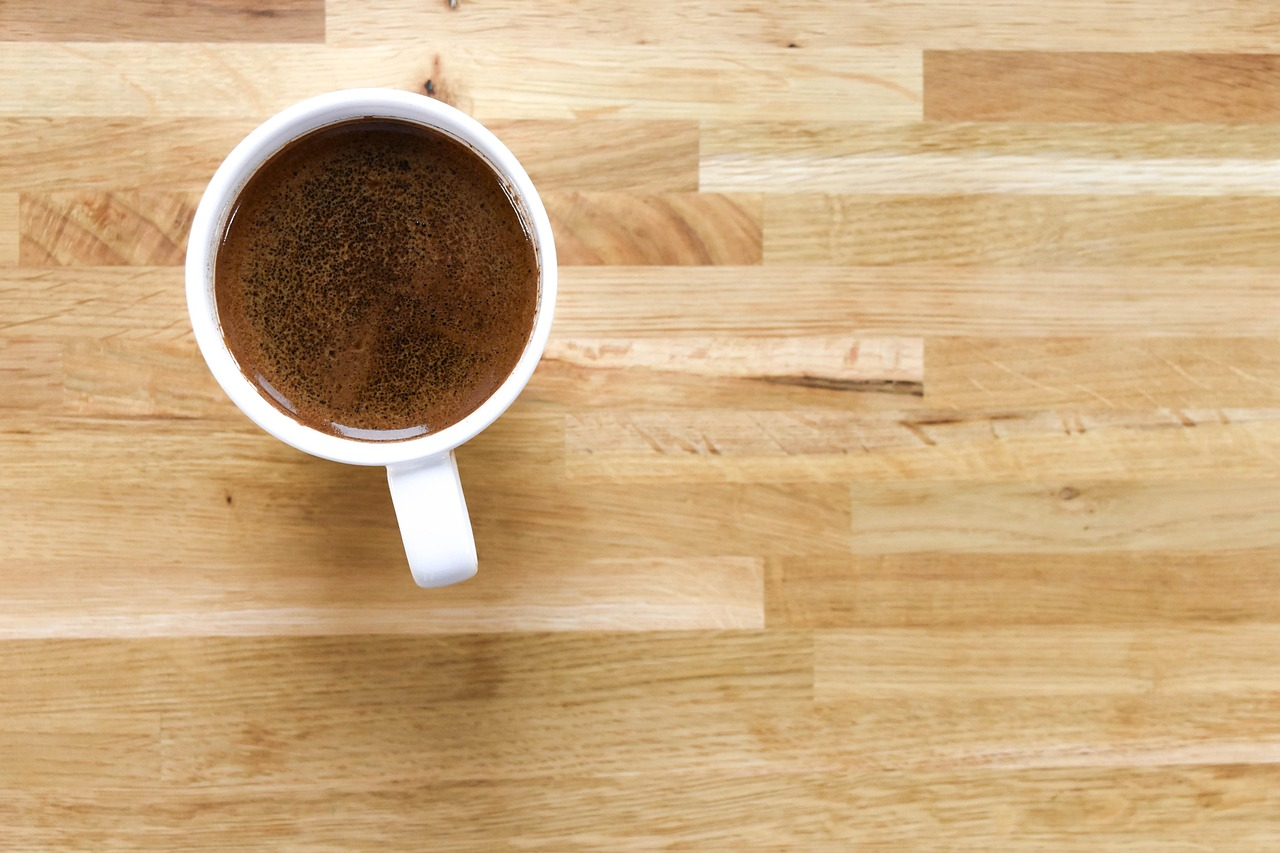mug: (171, 94, 575, 606)
